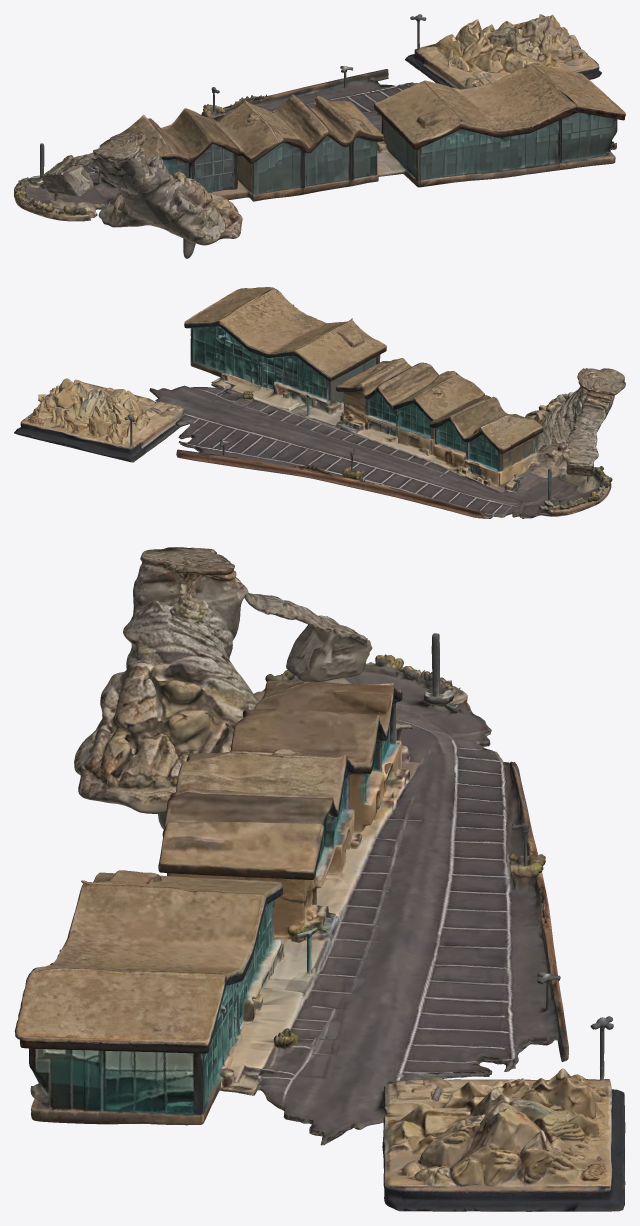
File: museum.glb
3 views of the same model, one above another, from view 1: azimuth 30°, elevation 25°; view 2: azimuth 150°, elevation 25°; view 3: azimuth 270°, elevation 25° (orthographic). The views are drawn at different scales.
Parts seen in each view (by area): view 1: tripo_node_b45dc017-b65f-47b0-8e2f-4599cd6117c8; view 2: tripo_node_b45dc017-b65f-47b0-8e2f-4599cd6117c8; view 3: tripo_node_b45dc017-b65f-47b0-8e2f-4599cd6117c8.
Part boxes in pixels (box(x1,y1,x2,y2)): tripo_node_b45dc017-b65f-47b0-8e2f-4599cd6117c8: box(14, 14, 625, 258); tripo_node_b45dc017-b65f-47b0-8e2f-4599cd6117c8: box(14, 287, 625, 518); tripo_node_b45dc017-b65f-47b0-8e2f-4599cd6117c8: box(14, 547, 625, 1211).
Bounding box in the file's own units: 0.8947 × 0.188 × 0.4487.
1 material, 1 textured.
